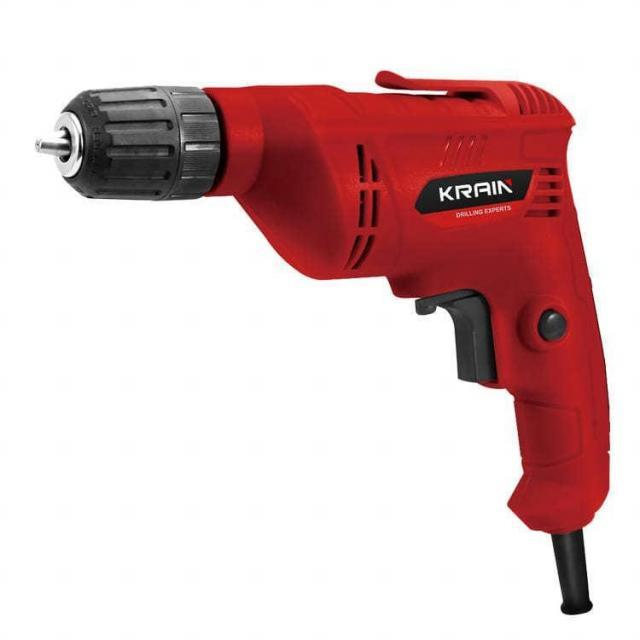drill: (34, 68, 610, 614)
